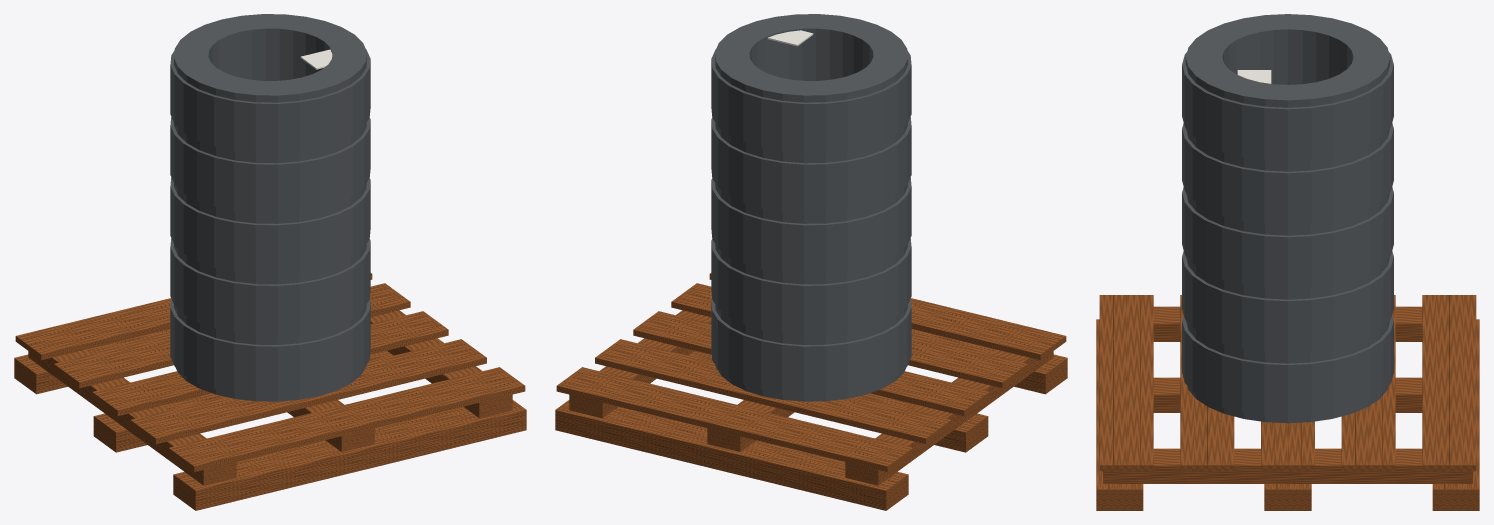
The model's file is car-repair-garage-and-mot-workshop-car-repair-garage-a-7ac67043__34019.glb.
3 renders of one model, left to right at view 1: azimuth 30°, elevation 25°; view 2: azimuth 150°, elevation 25°; view 3: azimuth 270°, elevation 25°, orthographic. The views are drawn at different scales.
Visible parts, largest first — view 1: car-repair-garage-and-mot-workshop-tyre-stack; view 2: car-repair-garage-and-mot-workshop-tyre-stack; view 3: car-repair-garage-and-mot-workshop-tyre-stack.
Part boxes in pixels (box(x1,y1,x2,y2)): car-repair-garage-and-mot-workshop-tyre-stack: box(14, 14, 526, 510); car-repair-garage-and-mot-workshop-tyre-stack: box(555, 14, 1067, 510); car-repair-garage-and-mot-workshop-tyre-stack: box(1096, 14, 1479, 510).
Bounding box in the file's own units: 1.2 × 1.21 × 1.14.
Materials: 3 (1 with a texture image).
